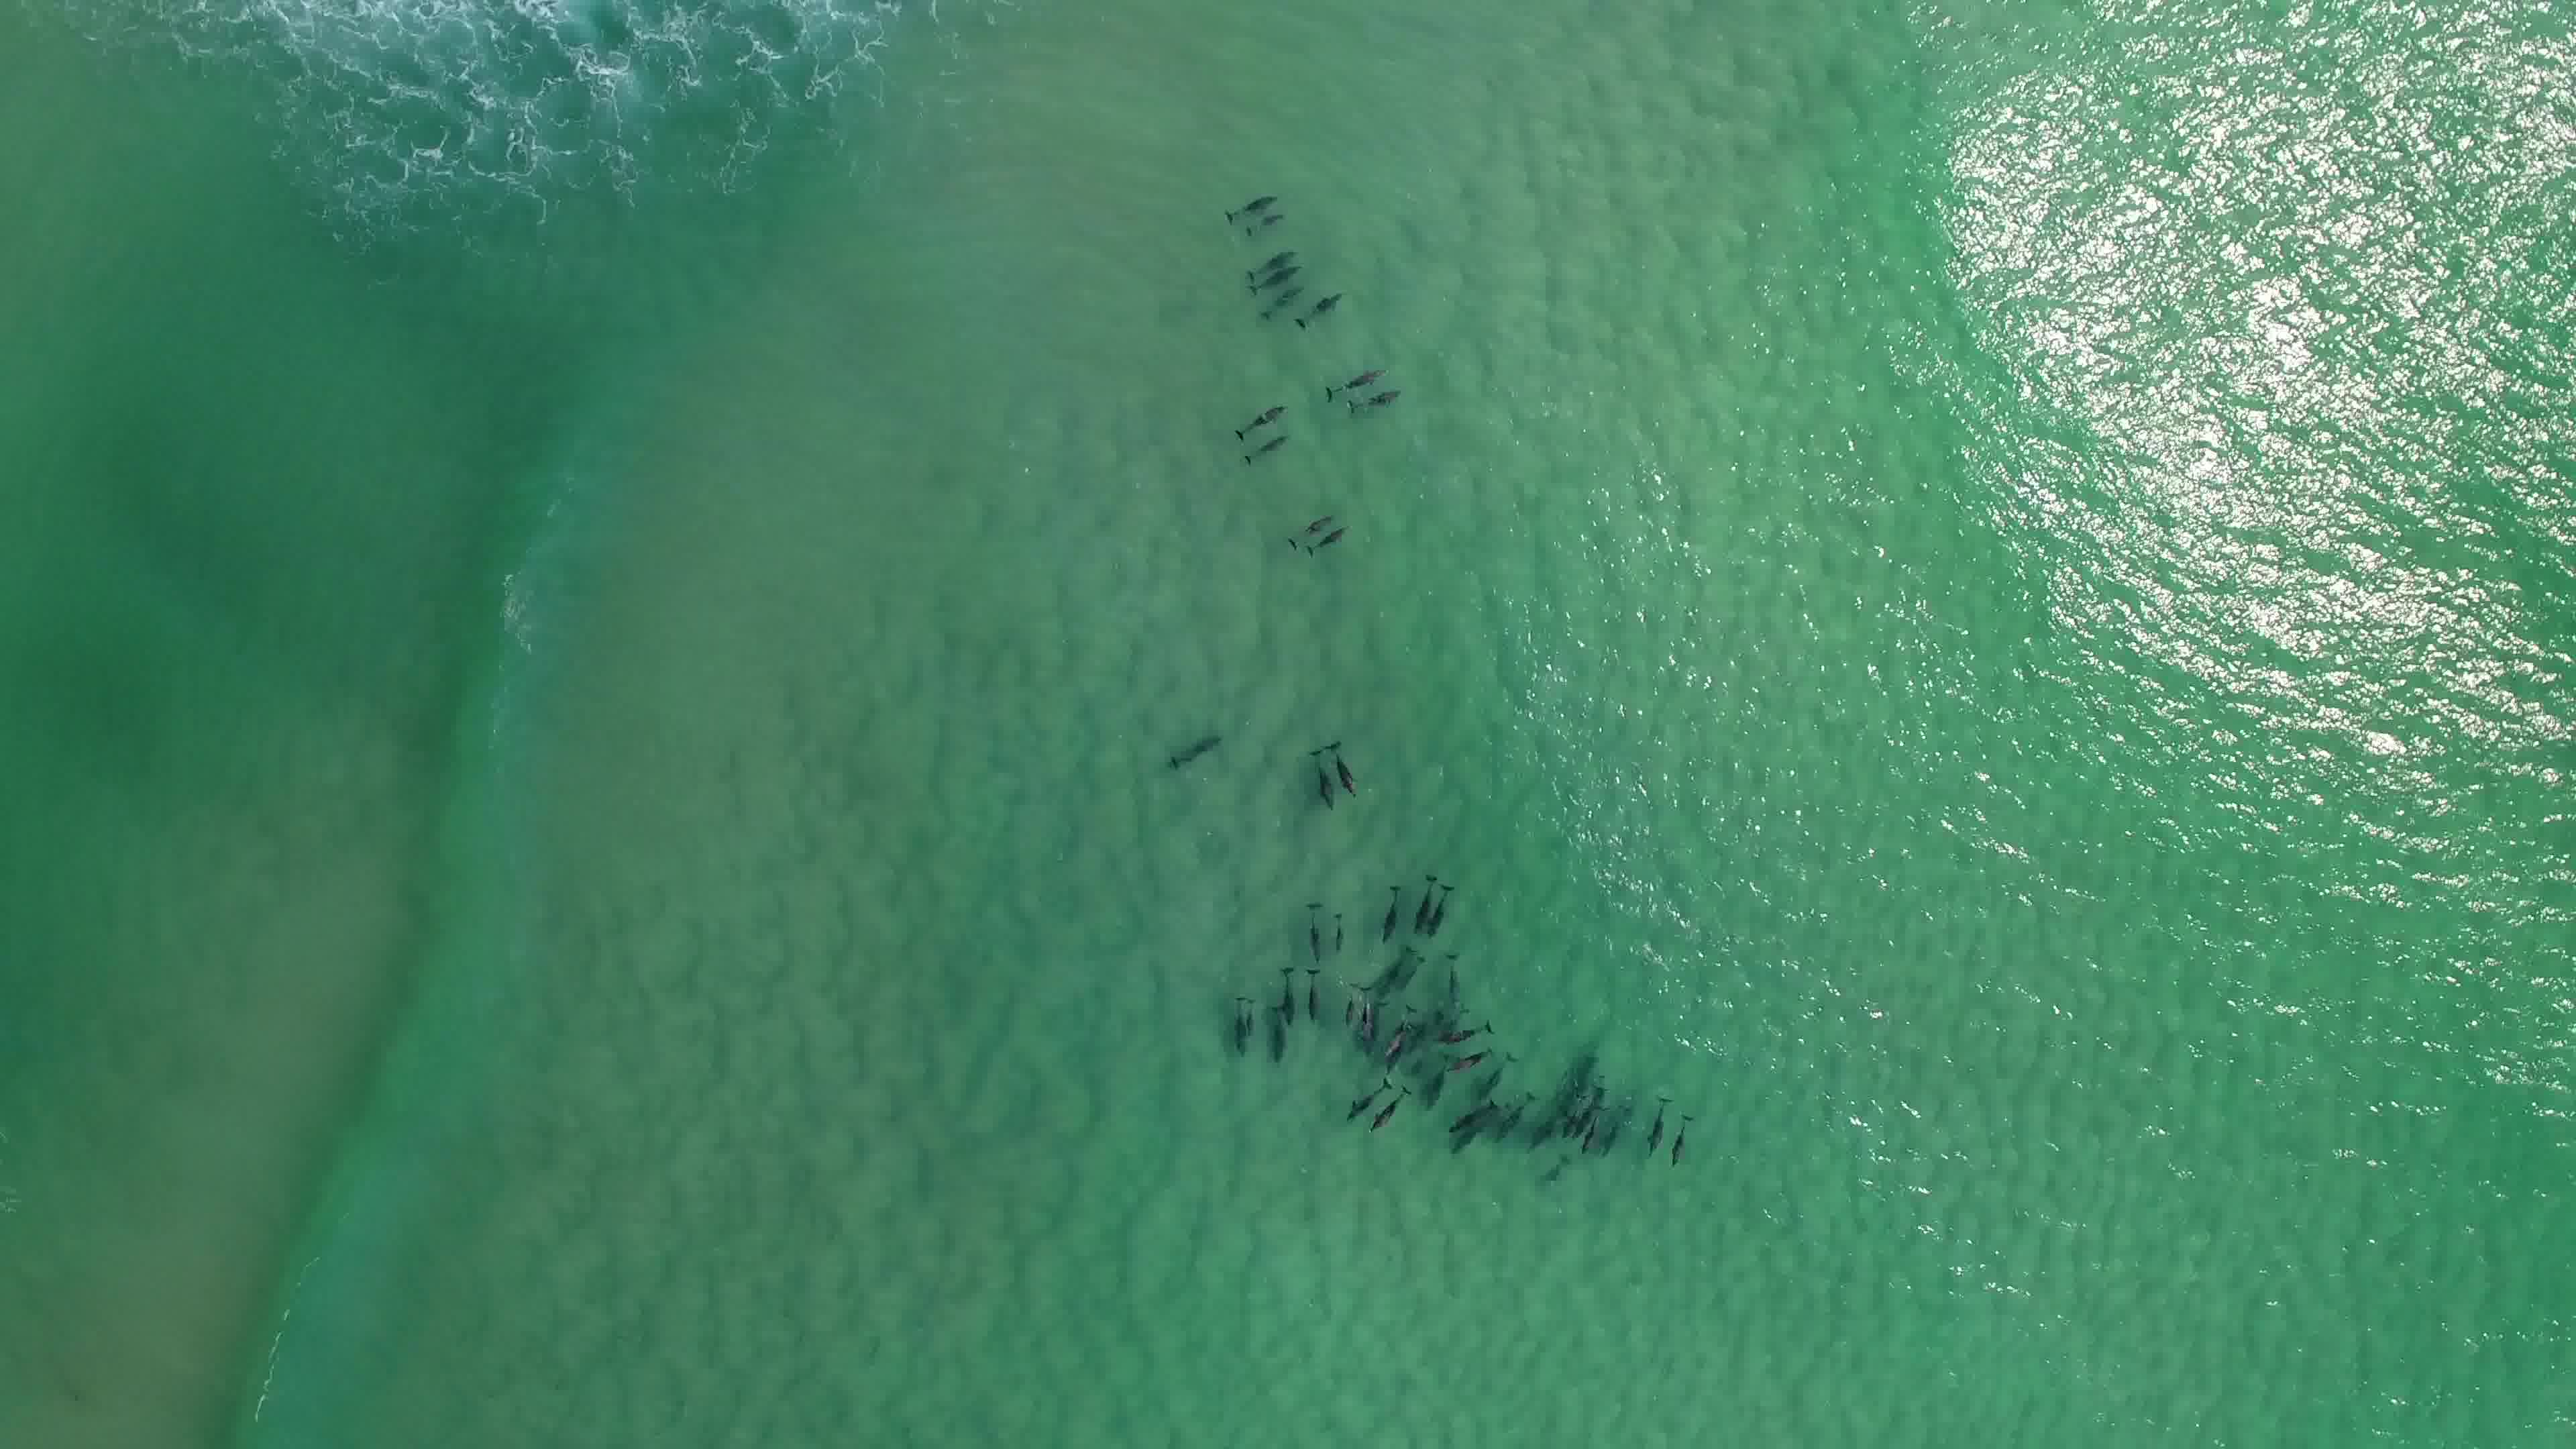dolphin: (1316, 352, 1403, 400), (1164, 724, 1235, 770), (1228, 395, 1297, 441), (1536, 1083, 1585, 1146), (1362, 1077, 1414, 1136), (1256, 272, 1318, 320), (1290, 283, 1350, 331), (1438, 1005, 1499, 1051), (1334, 1070, 1389, 1120), (1329, 731, 1366, 803), (1215, 188, 1299, 219), (1445, 1033, 1502, 1079), (1284, 506, 1343, 550), (1638, 1092, 1677, 1157), (1304, 741, 1336, 819), (1240, 426, 1300, 467), (1384, 1000, 1419, 1069), (1346, 386, 1419, 419), (1246, 258, 1315, 292), (1223, 985, 1258, 1051), (1295, 893, 1327, 961), (1442, 1097, 1502, 1132), (1240, 241, 1309, 271), (1304, 520, 1355, 557), (1380, 874, 1405, 943), (1238, 209, 1302, 235), (1433, 874, 1454, 952), (1674, 1099, 1693, 1180), (1414, 867, 1435, 941), (1263, 993, 1284, 1062), (1499, 1093, 1537, 1131), (1359, 982, 1378, 1054), (1283, 947, 1300, 1026), (1453, 948, 1474, 1010), (1338, 980, 1361, 1035), (1329, 901, 1350, 959), (1304, 959, 1322, 1023), (1585, 1106, 1605, 1159)
